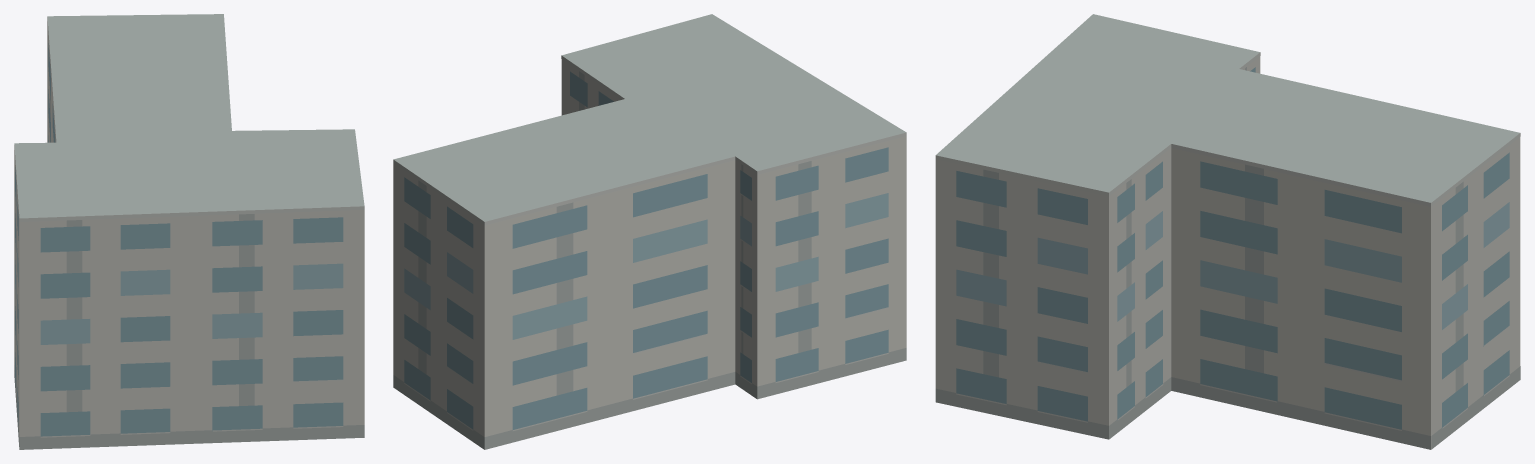
File: residential-624b467a-70b8-45f6-944c-aadfc40d4a27.glb
3 views of the same model, side by side, from view 1: azimuth 30°, elevation 25°; view 2: azimuth 150°, elevation 25°; view 3: azimuth 270°, elevation 25° (orthographic). The views are drawn at different scales.
Visible parts, largest first — view 1: residential-624b467a-70b8-45f6-944c-aadfc40d4a27.tmp; view 2: residential-624b467a-70b8-45f6-944c-aadfc40d4a27.tmp; view 3: residential-624b467a-70b8-45f6-944c-aadfc40d4a27.tmp.
Boxes of the visible parts, x1=… form: residential-624b467a-70b8-45f6-944c-aadfc40d4a27.tmp: x1=14, y1=14, x2=364, y2=449; residential-624b467a-70b8-45f6-944c-aadfc40d4a27.tmp: x1=393, y1=14, x2=906, y2=449; residential-624b467a-70b8-45f6-944c-aadfc40d4a27.tmp: x1=935, y1=14, x2=1520, y2=449.
Bounding box in the file's own units: 25.03 × 15.25 × 32.74.
